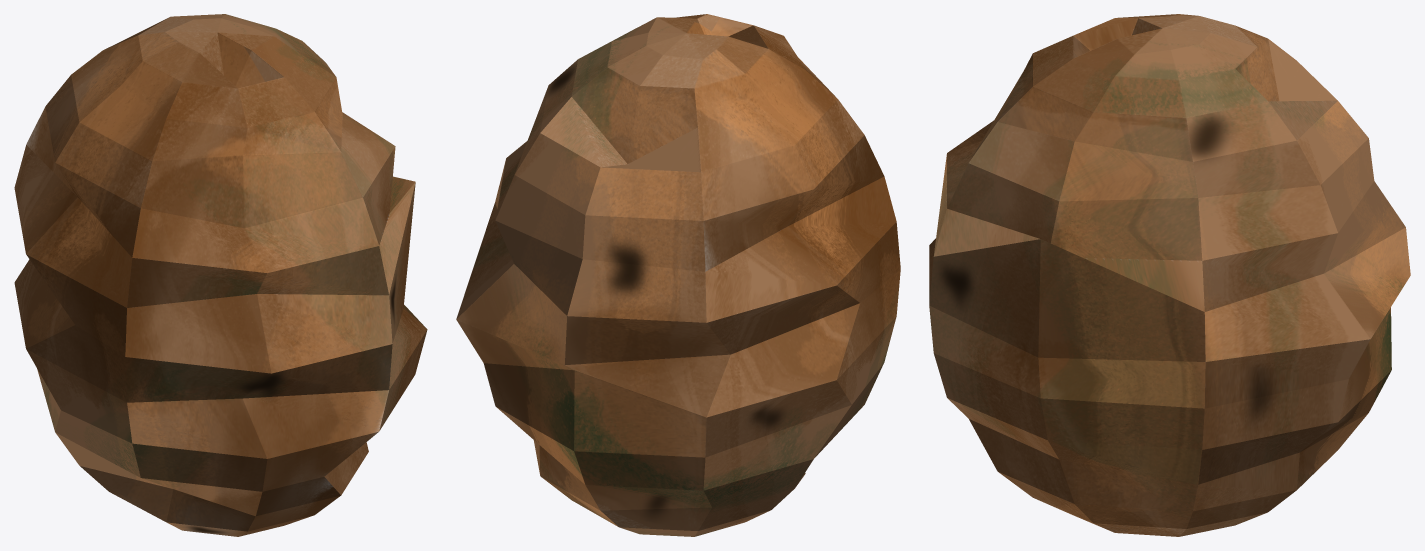
The model's file is papa.fbx.
3 views of the same model, side by side, from view 1: azimuth 30°, elevation 25°; view 2: azimuth 150°, elevation 25°; view 3: azimuth 270°, elevation 25° (orthographic).
Visible parts, largest first — view 1: Sphere; view 2: Sphere; view 3: Sphere.
Boxes of the visible parts, x1,y1,x2,y2 form: Sphere: (14,14,427,536); Sphere: (456,14,900,536); Sphere: (929,14,1410,536).
Size of the model in its own units: 177 by 238 by 210.
1 material, 1 textured.
